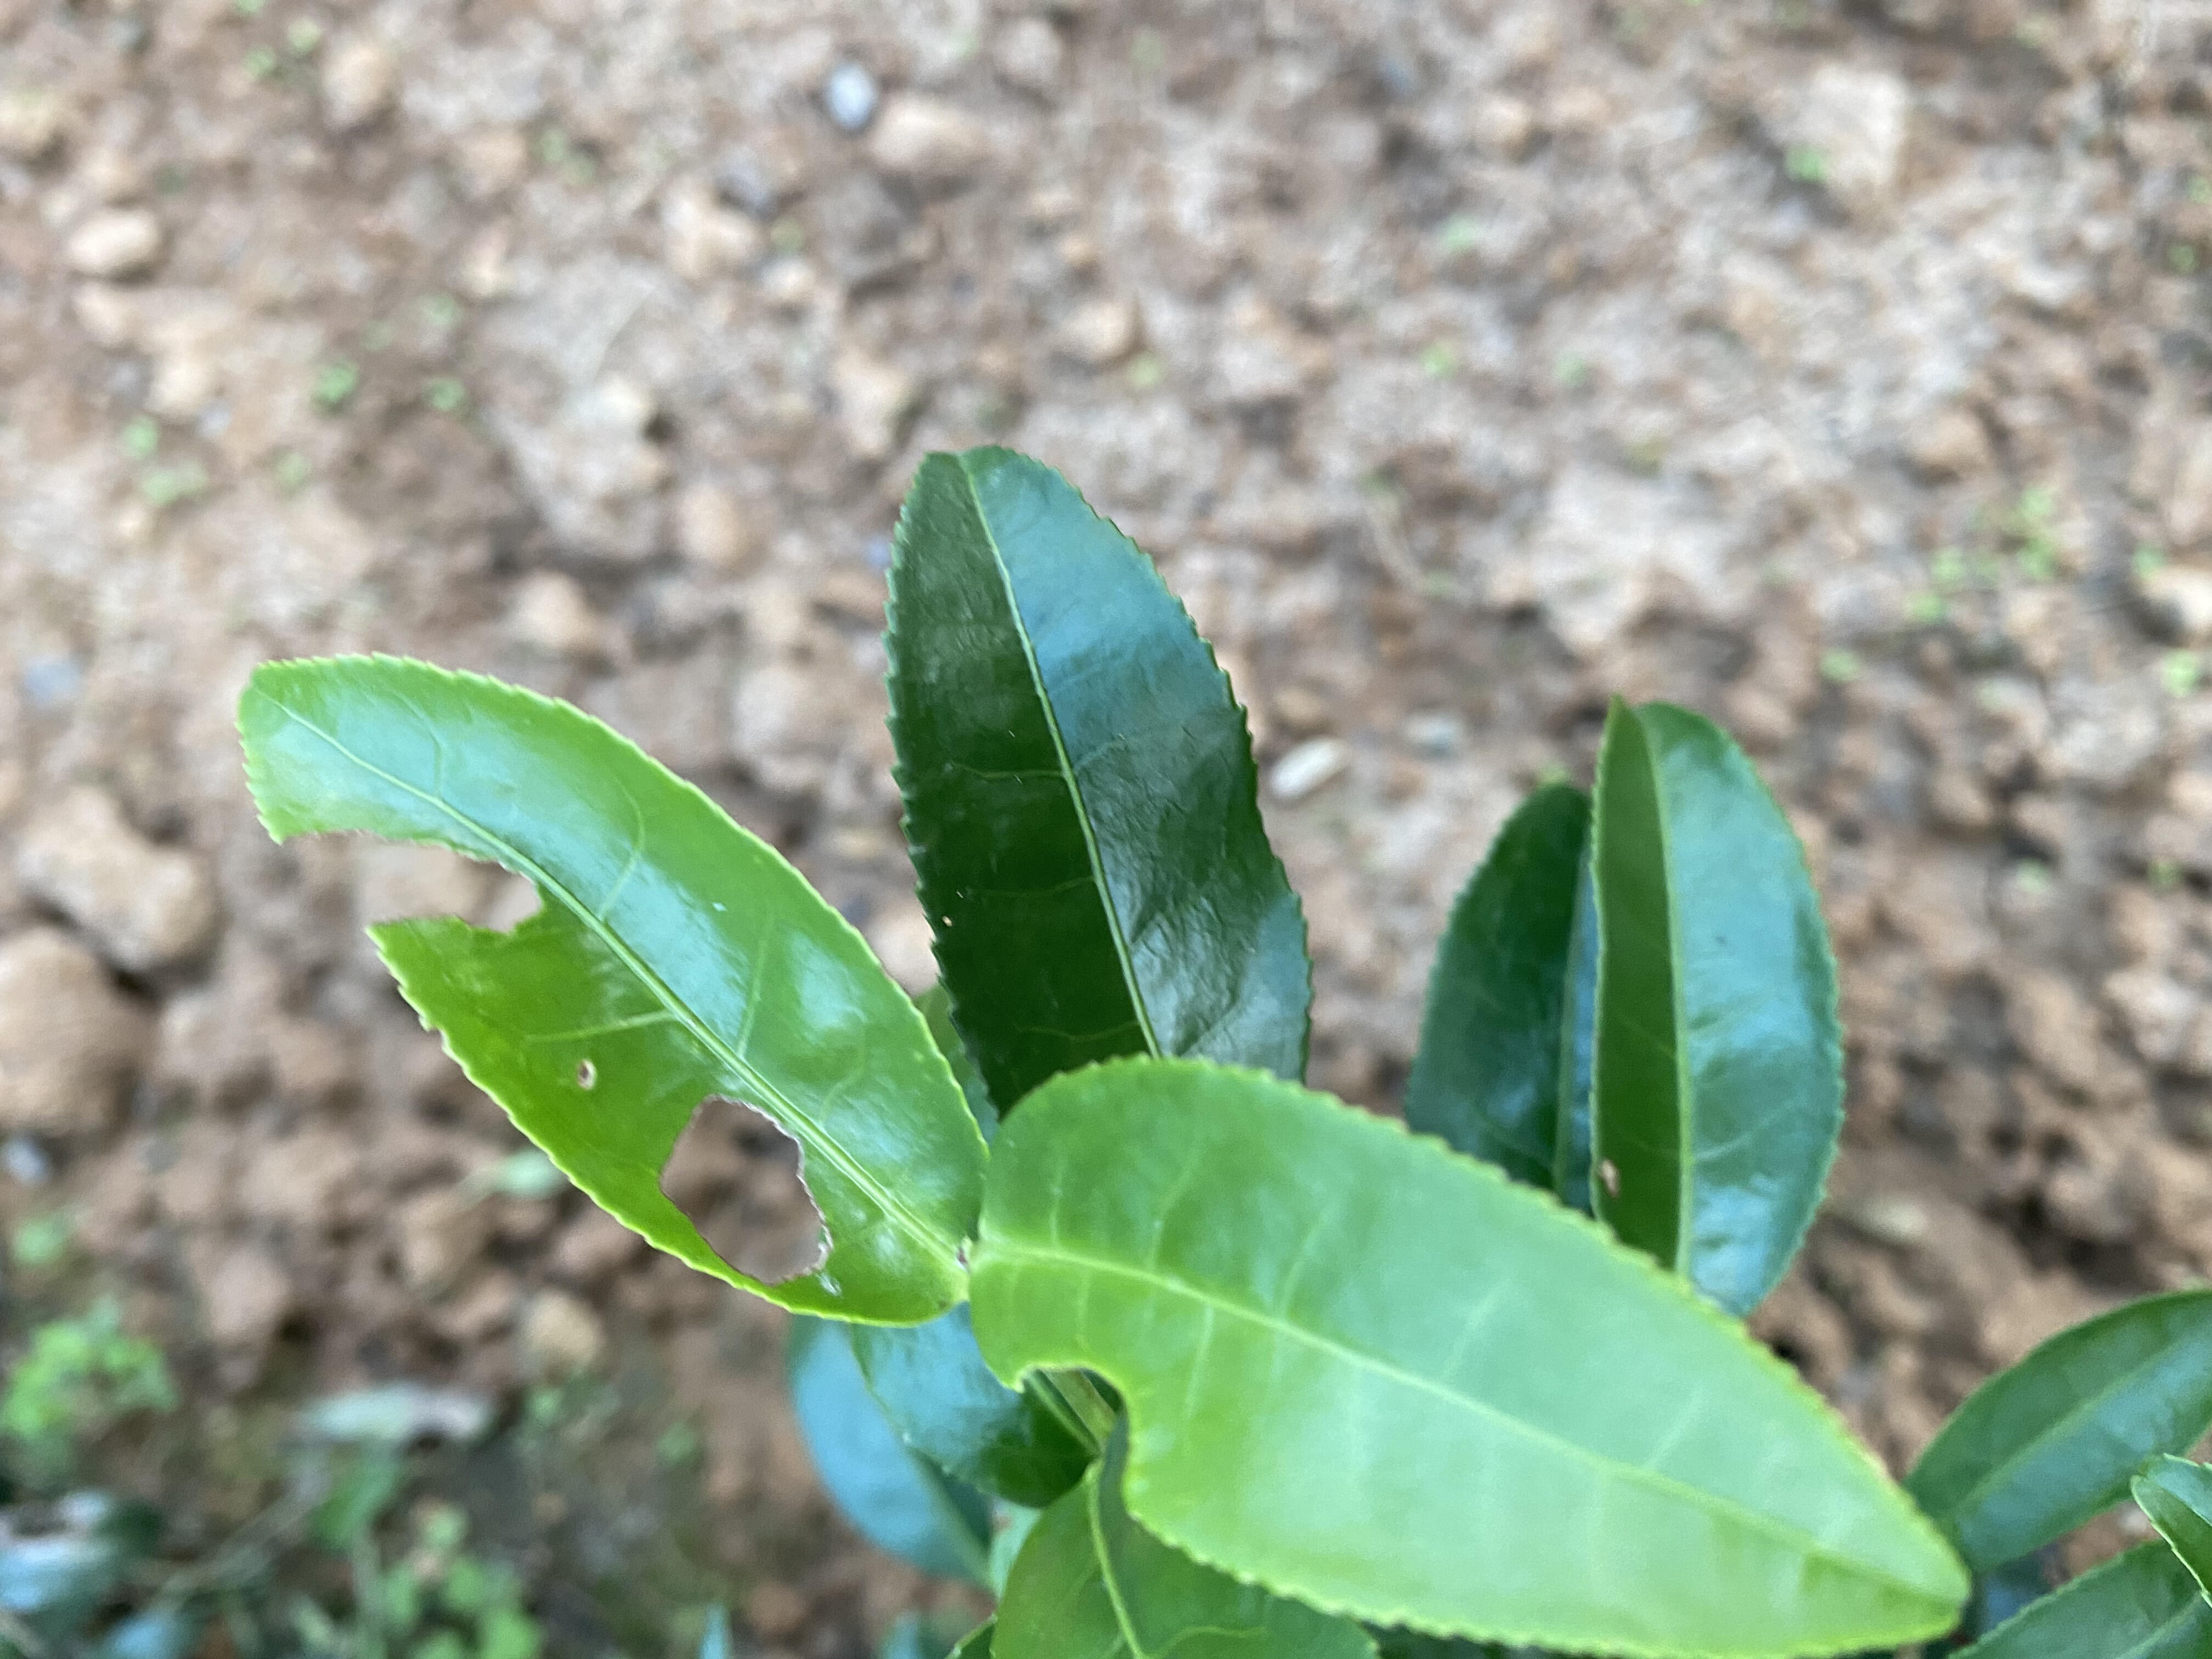chihuo_high: (237, 650, 988, 1323)
chihuo_low: (972, 1051, 1972, 1654)
healthy: (881, 444, 1315, 1112)
tanju_low: (1583, 692, 1848, 1310)
